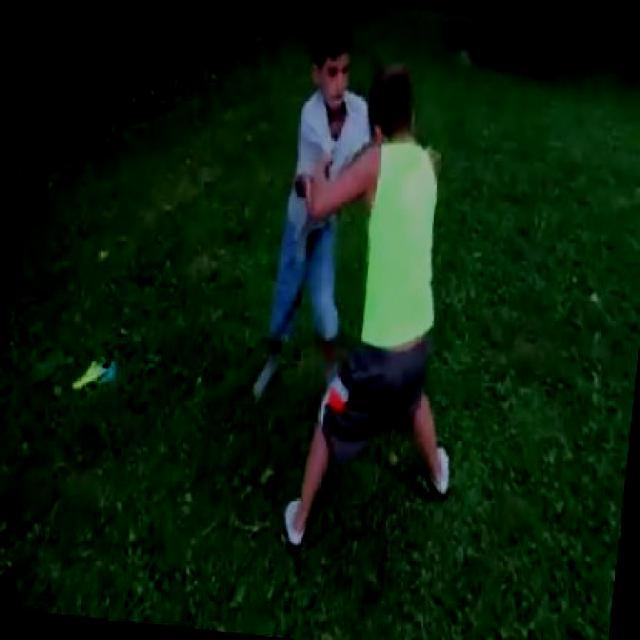fight: (236, 7, 496, 561)
